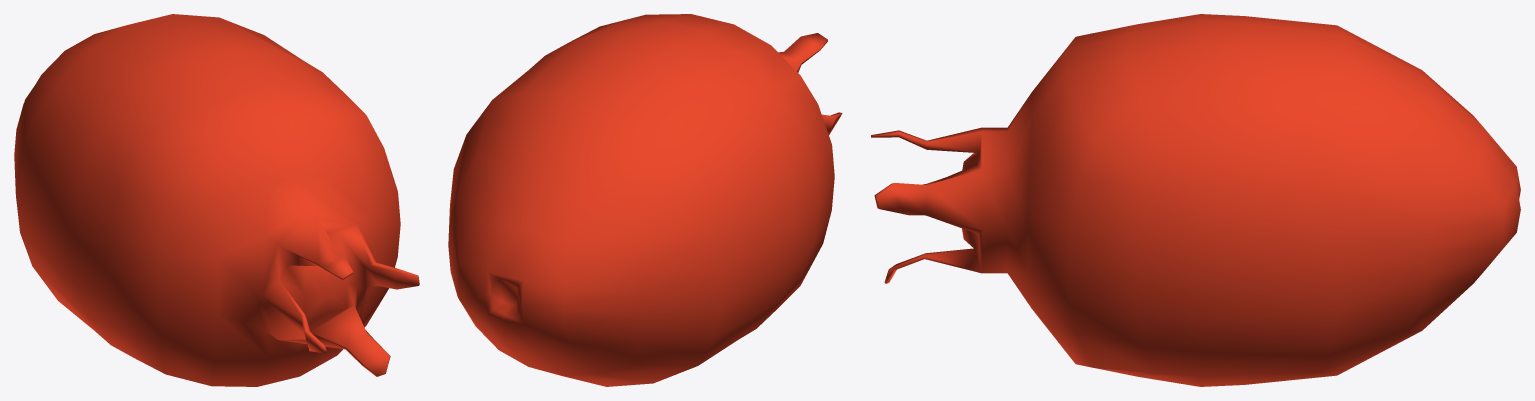
Rendered from Rosehip_Hip.fbx.
3 renders of one model, left to right at view 1: azimuth 30°, elevation 25°; view 2: azimuth 150°, elevation 25°; view 3: azimuth 270°, elevation 25°, orthographic. The views are drawn at different scales.
Visible parts, largest first — view 1: rose hip; view 2: rose hip; view 3: rose hip.
Boxes of the visible parts, x1,y1,x2,y2 form: rose hip: (14,14,419,386); rose hip: (448,14,842,386); rose hip: (871,14,1520,386).
Size of the model in its own units: 2.92 by 2.92 by 5.16.
